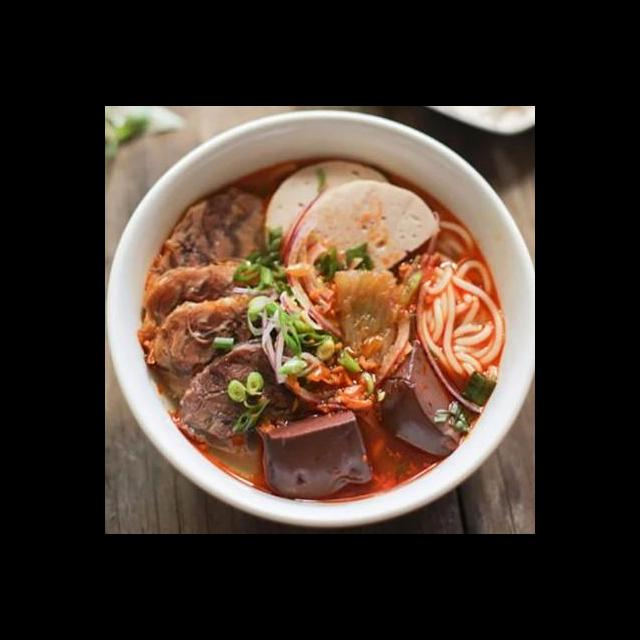bun: (407, 215, 508, 386)
bun bo: (132, 129, 522, 515)
thit bo: (164, 334, 316, 461), (139, 286, 295, 405), (132, 256, 283, 372), (141, 182, 282, 295)
